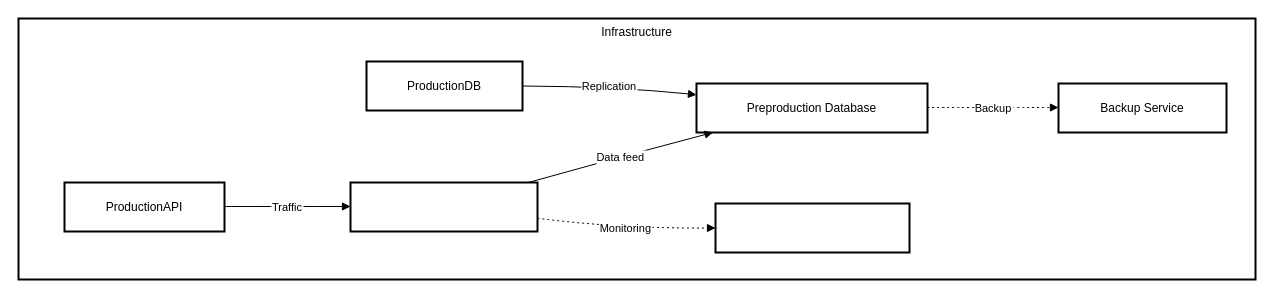
The diagram is 1273 pixels wide and 297 high, and some of its shapes have lost their labels. Here are the shapes that lost their labels. From the top down, the box of each, then its label:
(349, 181, 538, 232): Preproduction API
(714, 202, 910, 253): Monitoring Service
